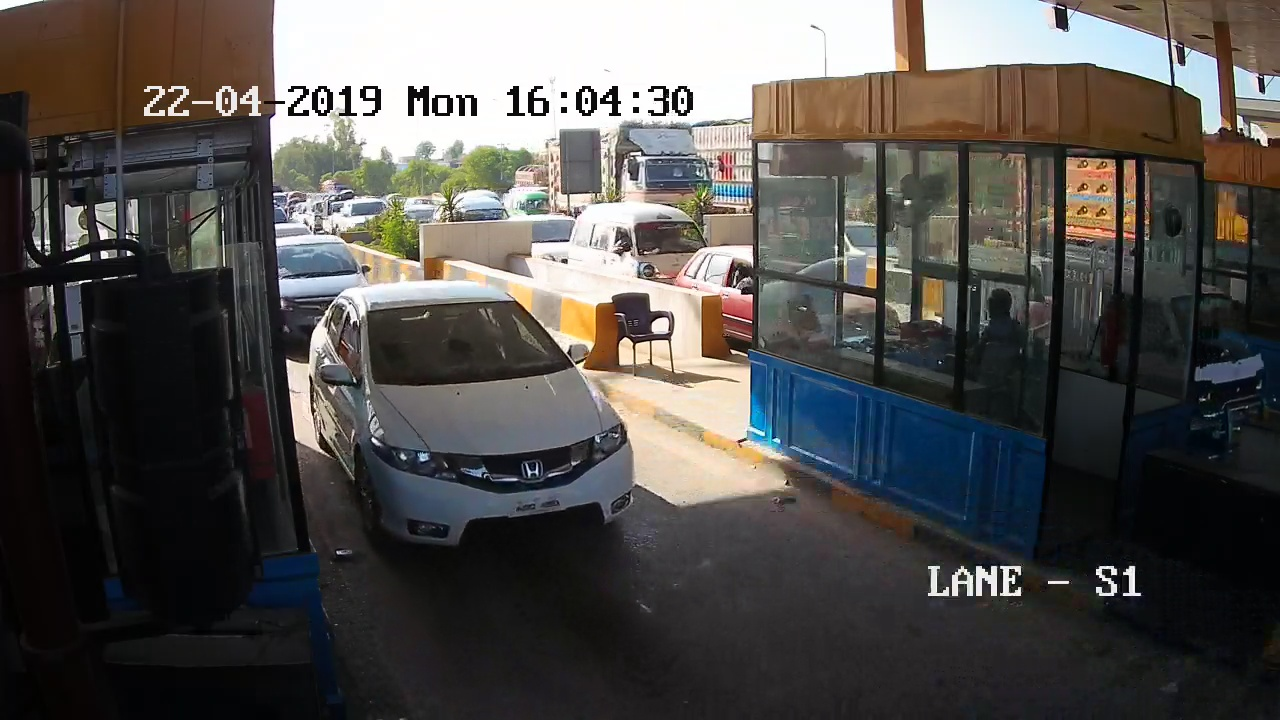Number Plate (Car): (507, 496, 566, 516)
